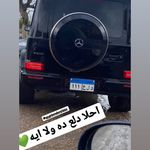carpl: (69, 82, 95, 90)
